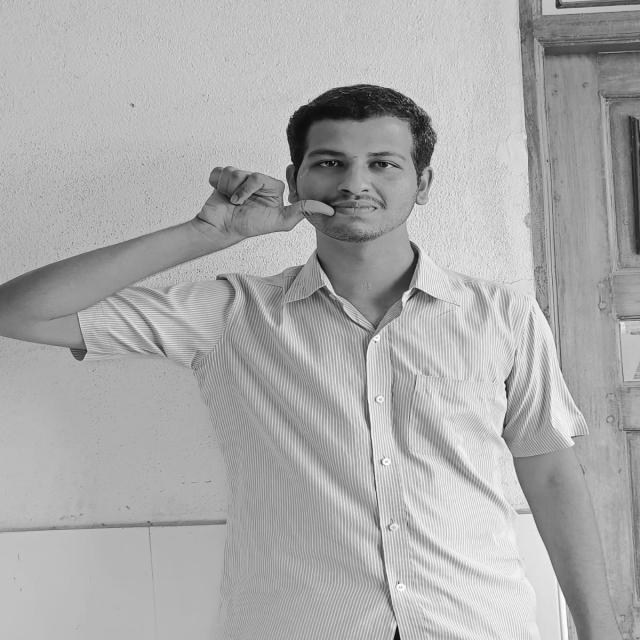Drink: (187, 164, 339, 244)
